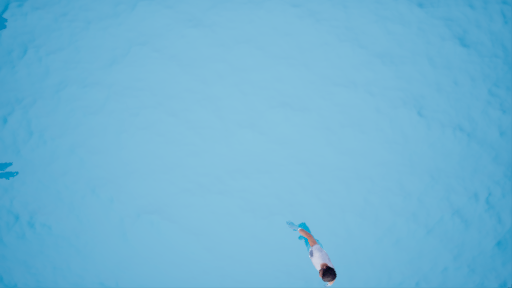person: (294, 214, 343, 288)
